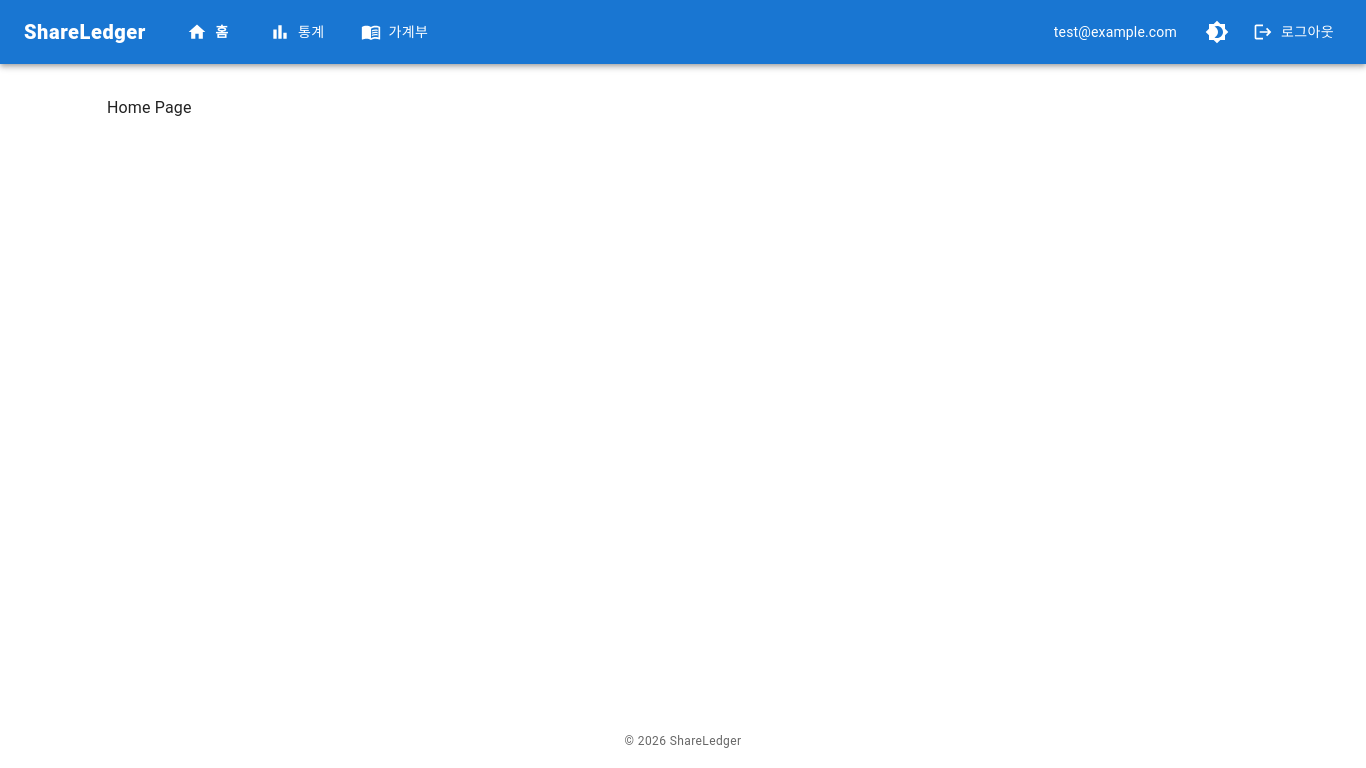
Test: RootLayout › 네비게이션 › 가계부 버튼 클릭 시 aria-current 업데이트
Click the button labelled "가계부".
click(396, 32)  # box [349,14,444,50]
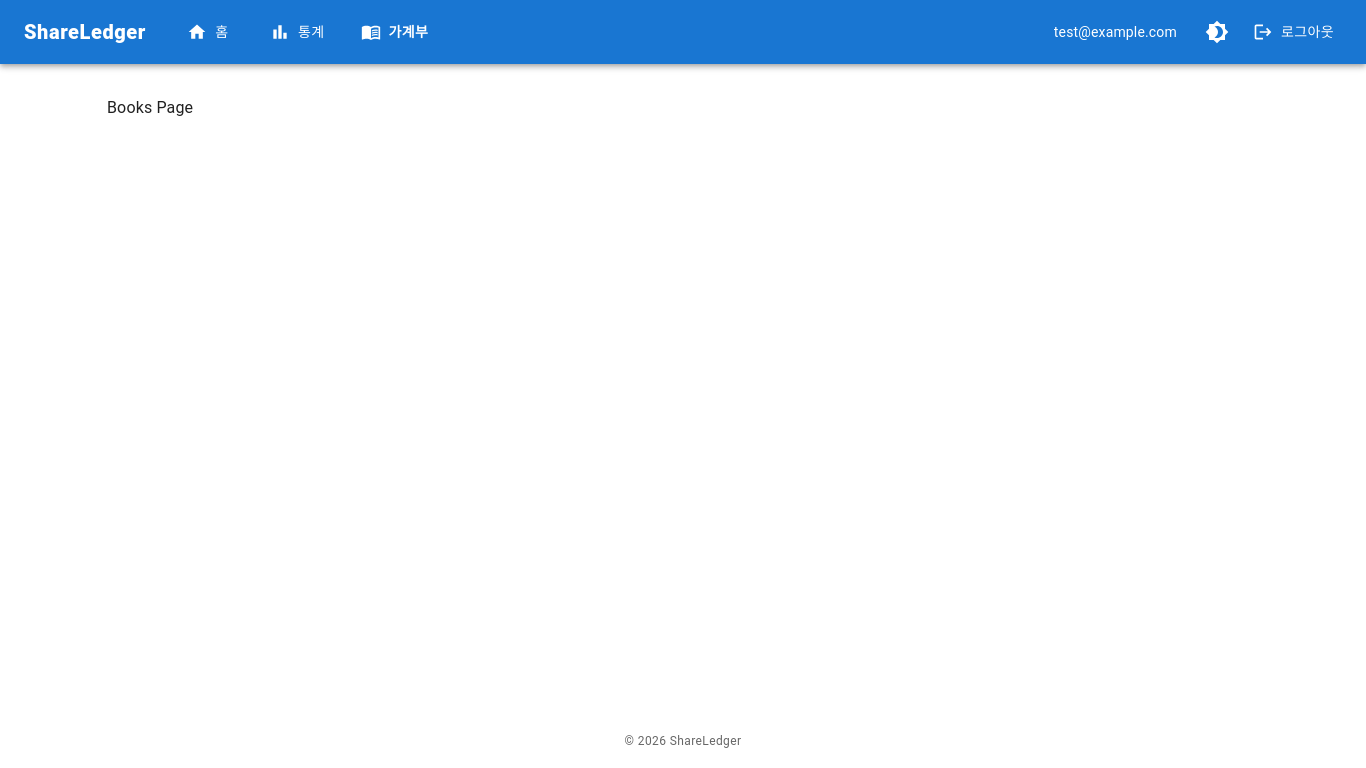
Expected: the text "Books Page" is shown, [107,98,193,117]
